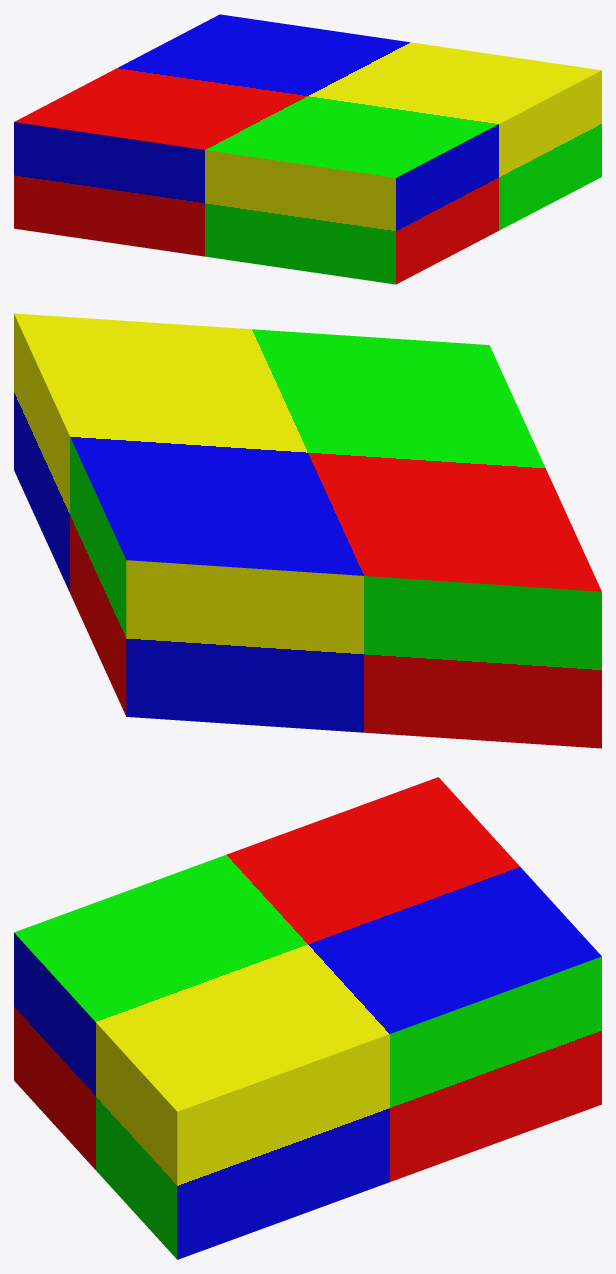
The model's file is edited.glb.
3 renders of one model, top to bottom at view 1: azimuth 30°, elevation 25°; view 2: azimuth 150°, elevation 25°; view 3: azimuth 270°, elevation 25°, orthographic. The views are drawn at different scales.
Parts seen in each view (by area): view 1: primitive-0-box; view 2: primitive-0-box; view 3: primitive-0-box.
Part boxes in pixels (x1,y1,x2,y2): primitive-0-box: [14, 14, 601, 284]; primitive-0-box: [14, 313, 601, 748]; primitive-0-box: [14, 777, 601, 1259].
Bounding box in the file's own units: 4.85 × 1 × 3.6.
Materials: 1 (1 with a texture image).
